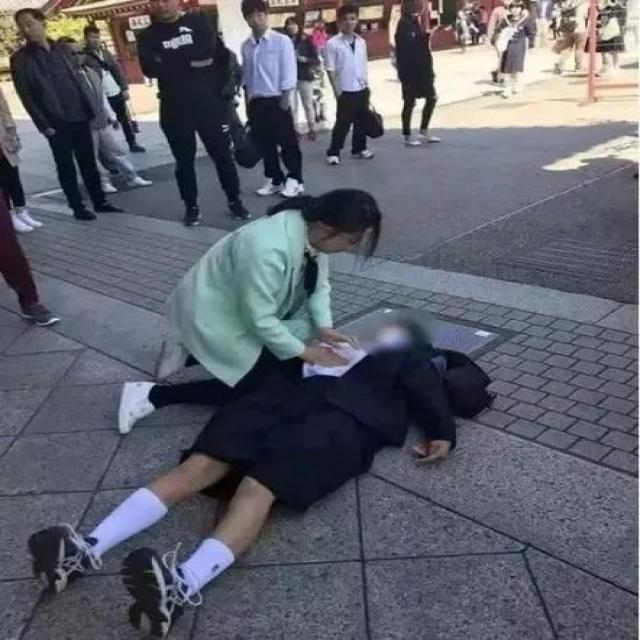10-: (0, 0, 639, 639)
down: (40, 299, 465, 632)
